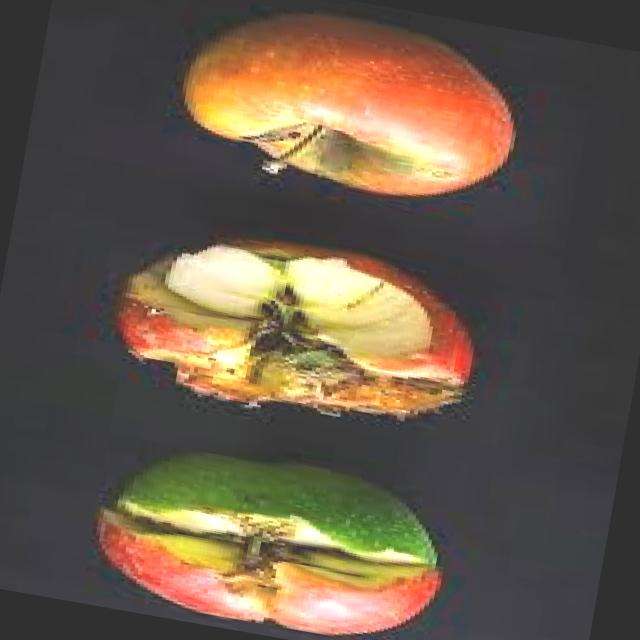Rotten Apple: (112, 218, 482, 444), (176, 0, 533, 214), (93, 434, 444, 640)
